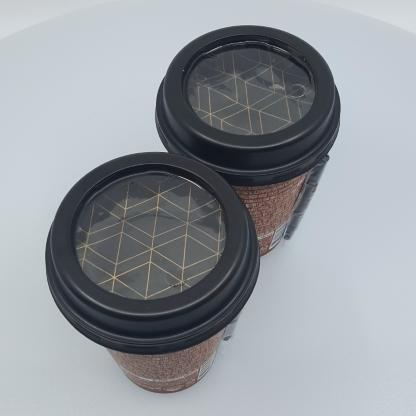----------250ML: (45, 151, 260, 394), (154, 25, 341, 259)
